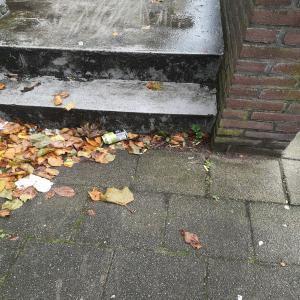Can: (101, 127, 134, 148)
Trash: (12, 170, 58, 199)
